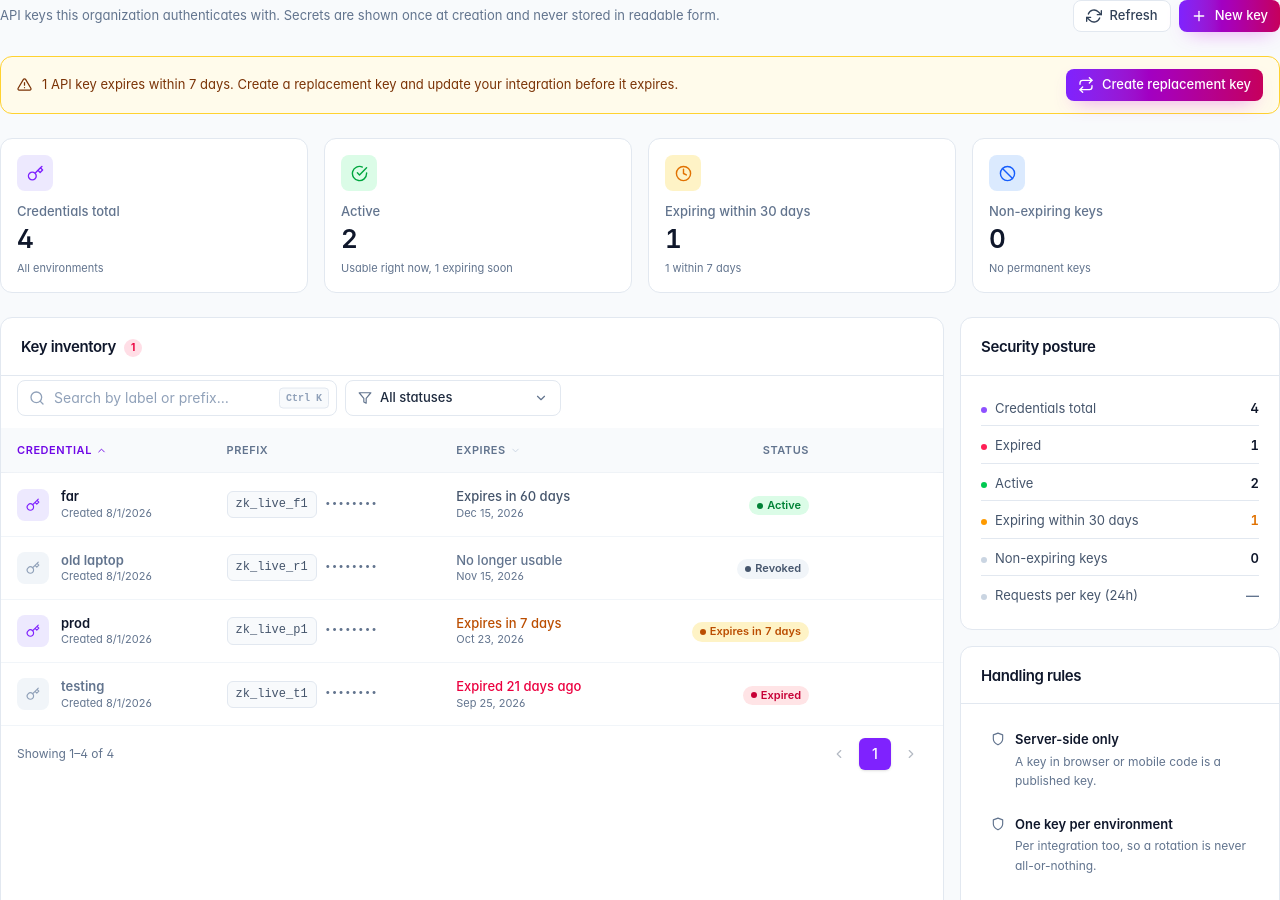
Scenario: advance warning and overlapping rotation › creates a NEW key alongside the old one — the old key is not touched, extended or revealed
Click the button "Create replacement key": (1164, 85) left=1066, top=69, right=1263, bottom=101
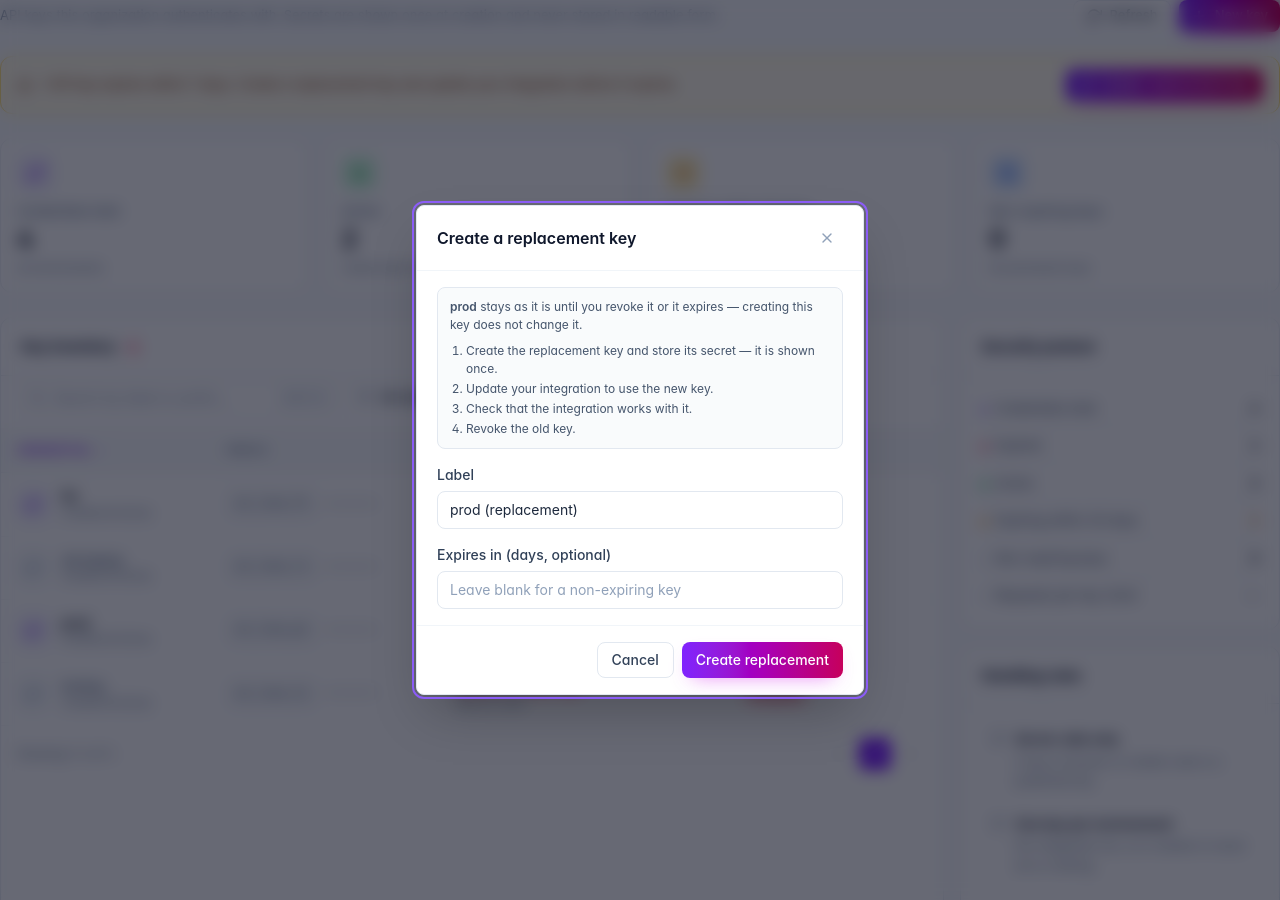
Expected: the field labelled "Label" holds "prod (replacement)", left=437, top=491, right=843, bottom=529
Expected: the list named "Rotation steps" shows "Revoke the old key", left=466, top=421, right=576, bottom=436
Expected: the dialog "Create a replacement key" shows "stays as it is until you revoke it or it expires", left=450, top=299, right=813, bottom=332
Click the button "Create replacement": (762, 660) left=682, top=642, right=843, bottom=678
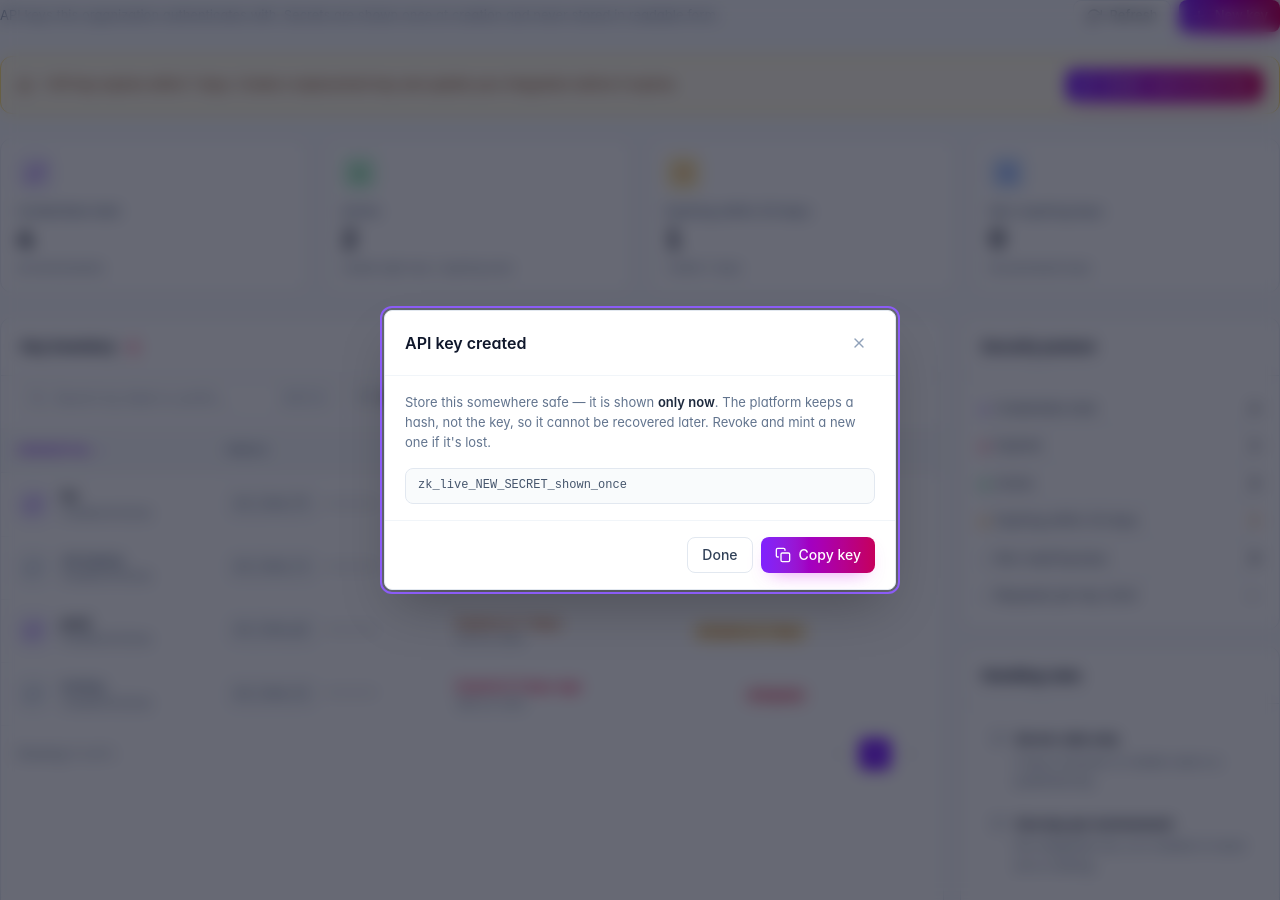
Expected: the text "zk_live_NEW_SECRET_shown_once" is shown, left=405, top=468, right=875, bottom=504
